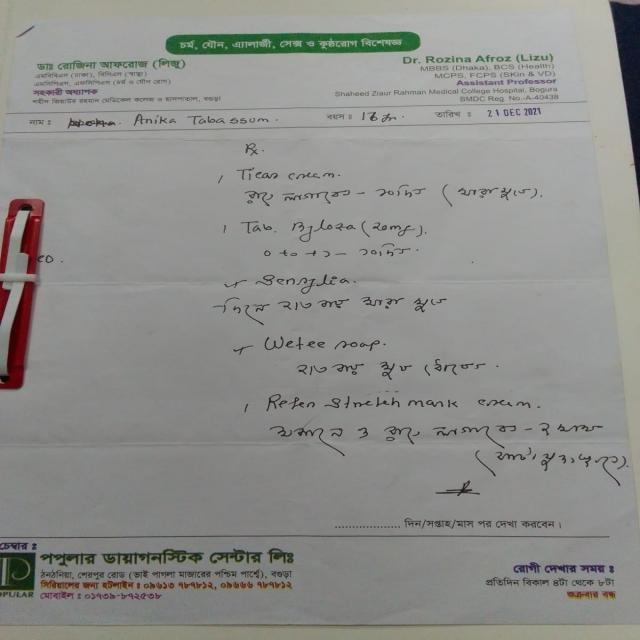Byloza: (289, 219, 361, 237)
Ticas: (234, 166, 285, 187)
